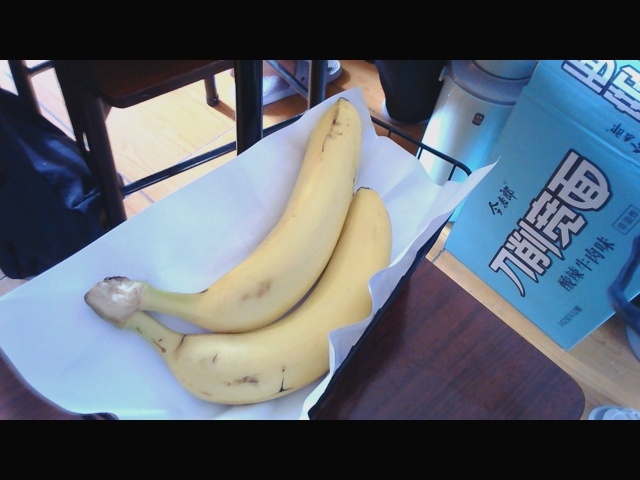banana: (145, 122, 396, 403)
